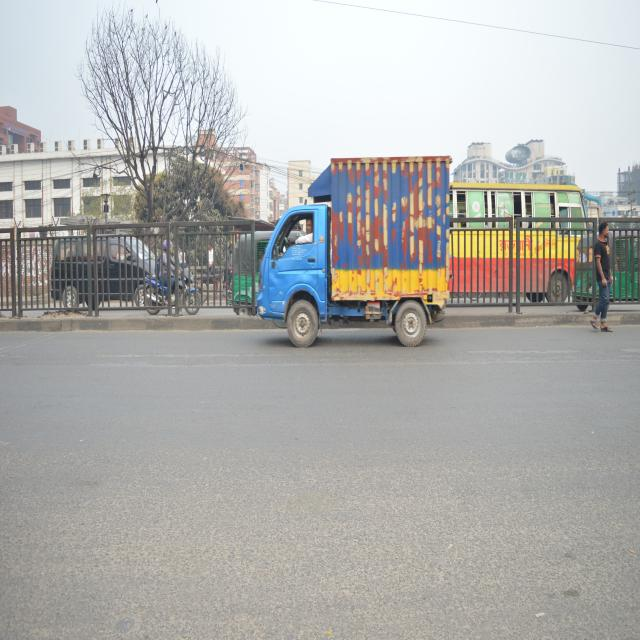bus: (440, 178, 598, 296)
microbus: (45, 214, 172, 313)
motorbike: (131, 266, 200, 328)
pickup-van: (252, 146, 458, 356)
